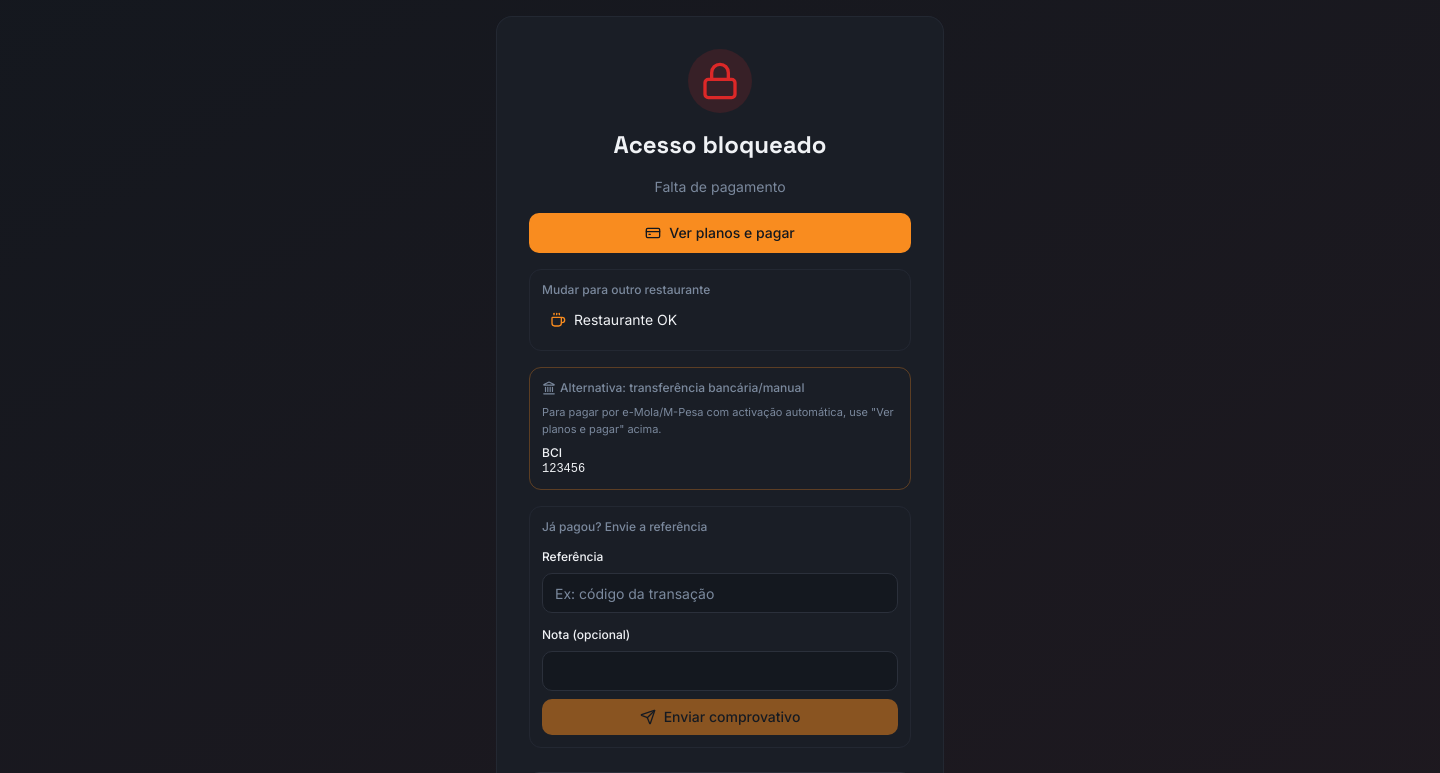
it: BlockedPage › mostra os dados de pagamento manual e submete um comprovativo
Expected: the text "123456" is shown, [542,462,585,476]
Type "TX-999" into the field labelled "Referência".
click(720, 593); type("TX-999")  # box [542,573,898,613]
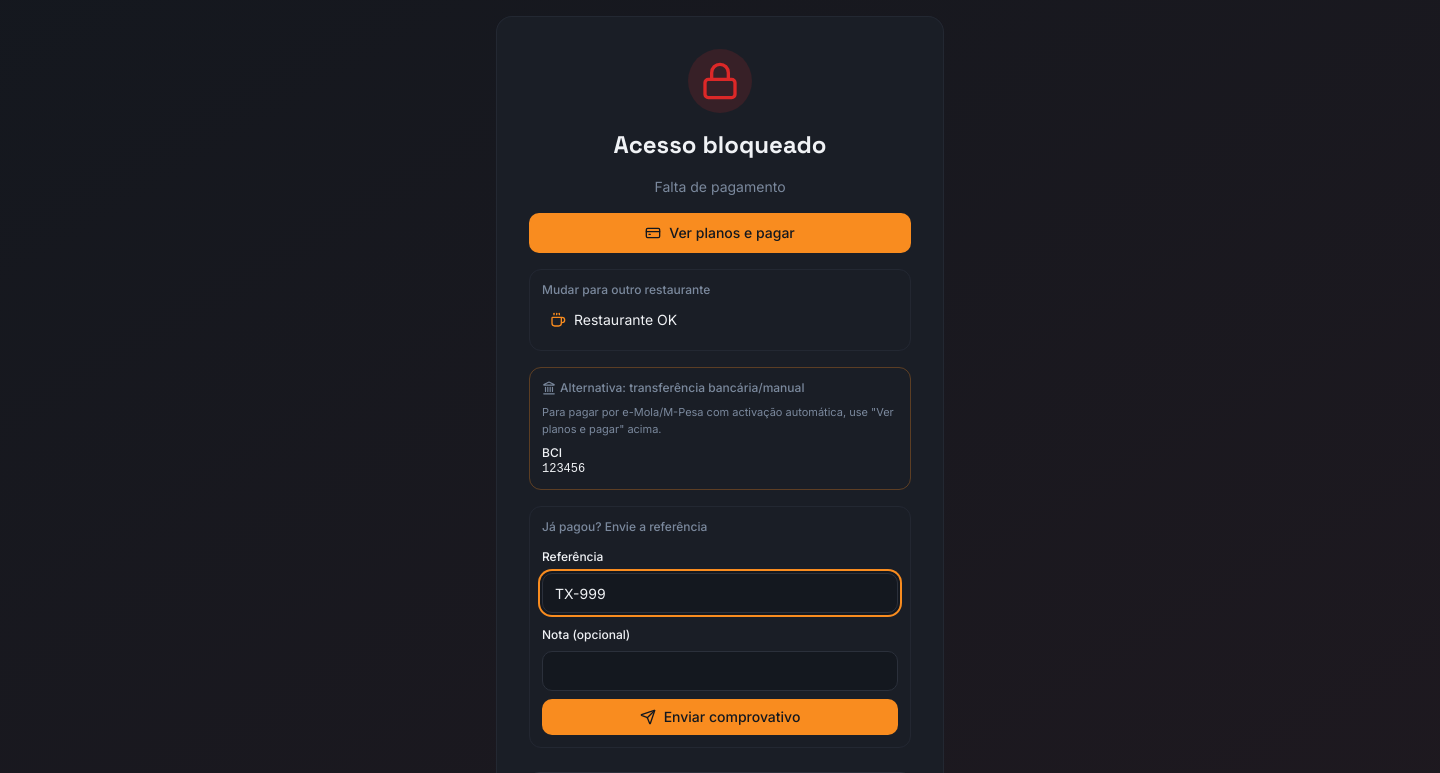
Click the button "Enviar comprovativo".
click(720, 717)  # box [542,699,898,735]
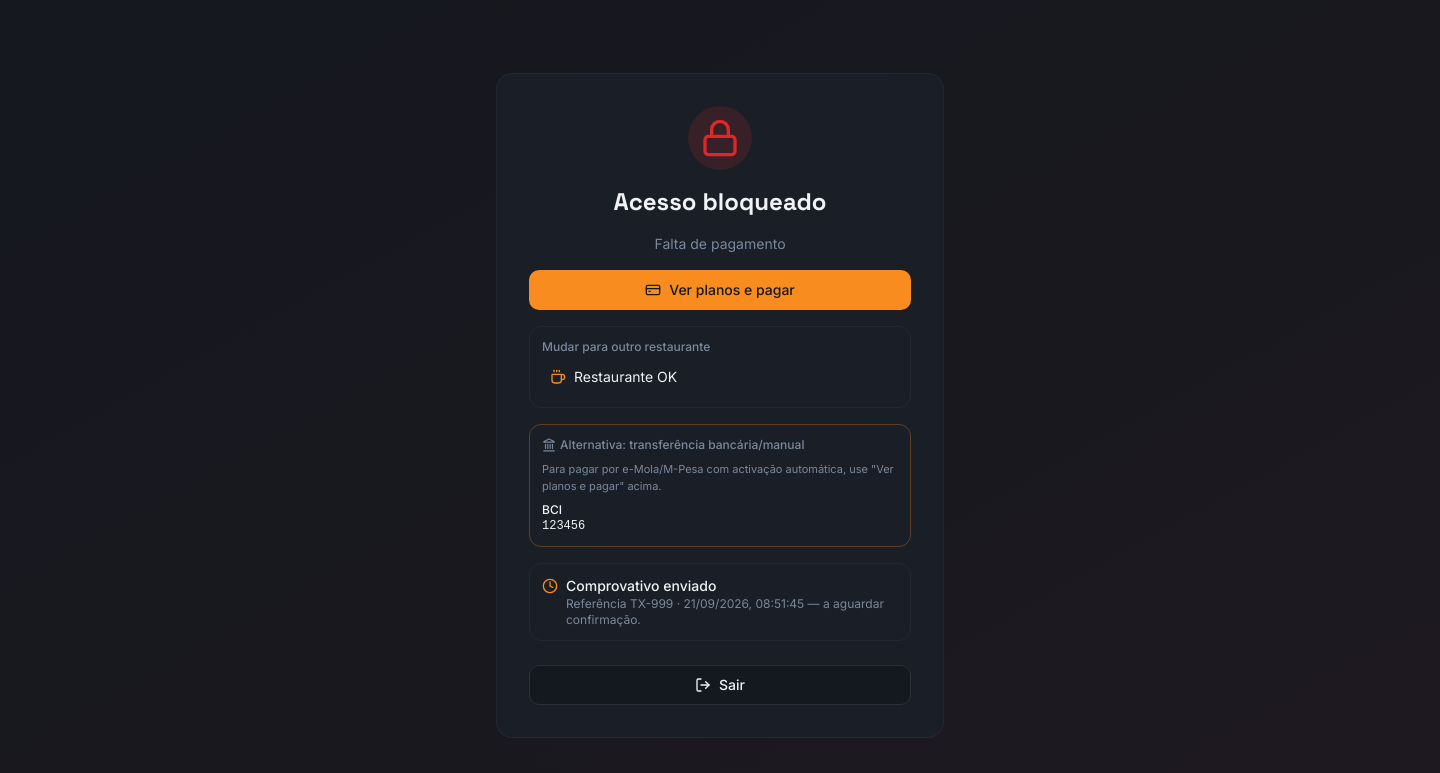
Now the text "Comprovativo enviado" is shown, box [566,576,716,594]
